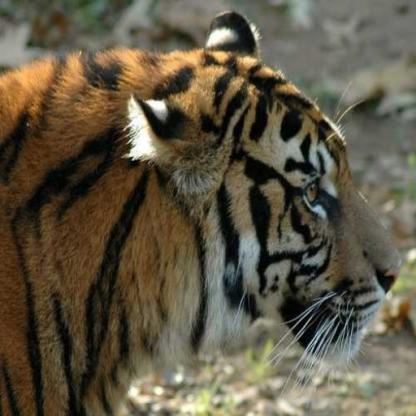Tiger: (0, 9, 404, 415)
